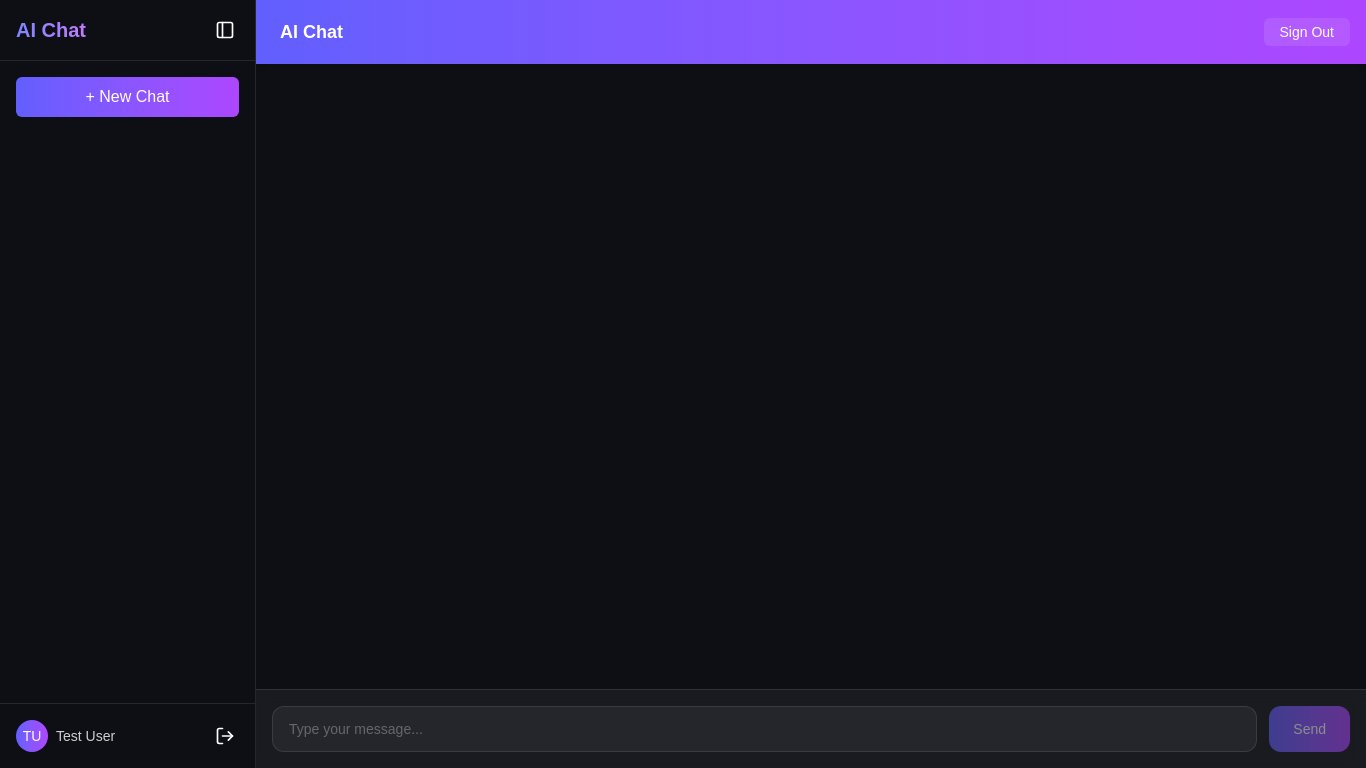
Test case: ChatPage Integration Tests › toggles sidebar visibility on button click
The image size is (1366, 768).
Click the button named "Close sidebar": (225, 30) [211,16,239,44]
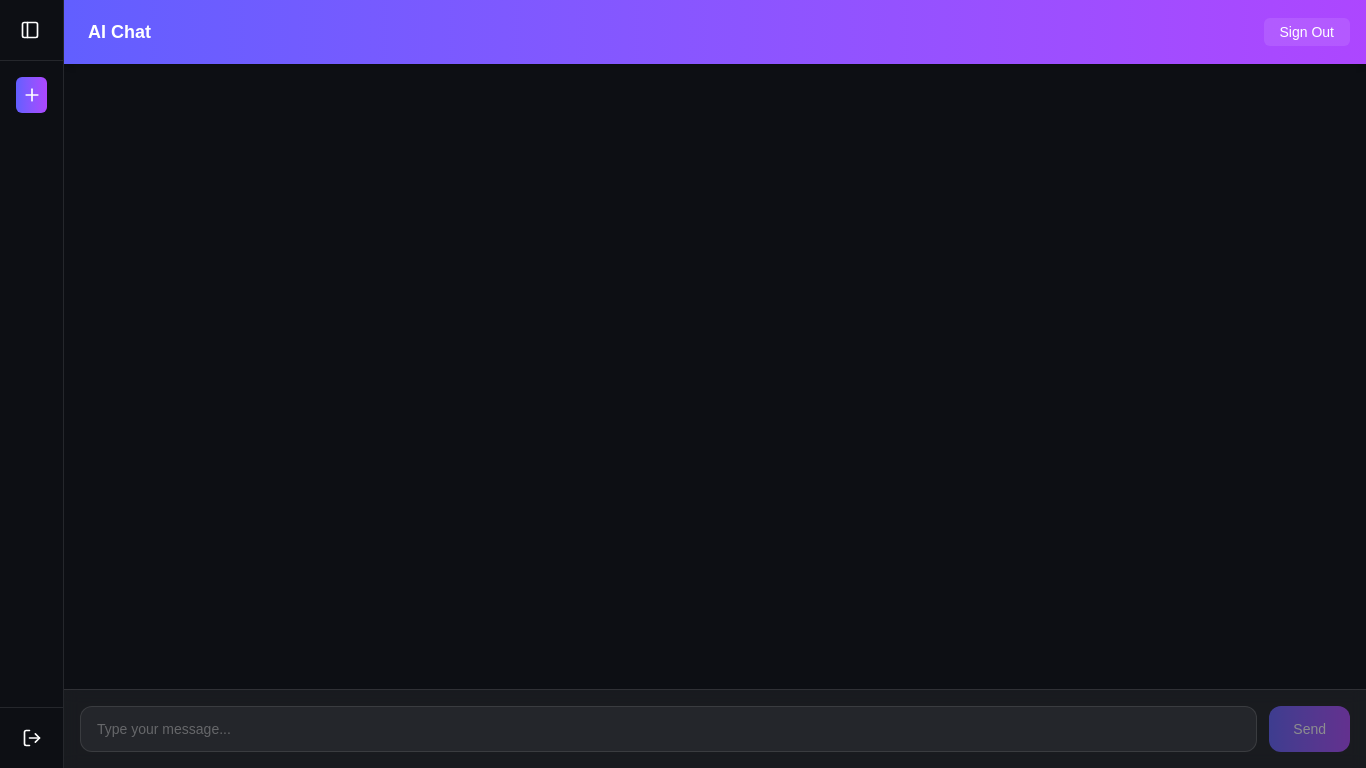
Click the button named "Open sidebar": (30, 30) [16,16,44,44]
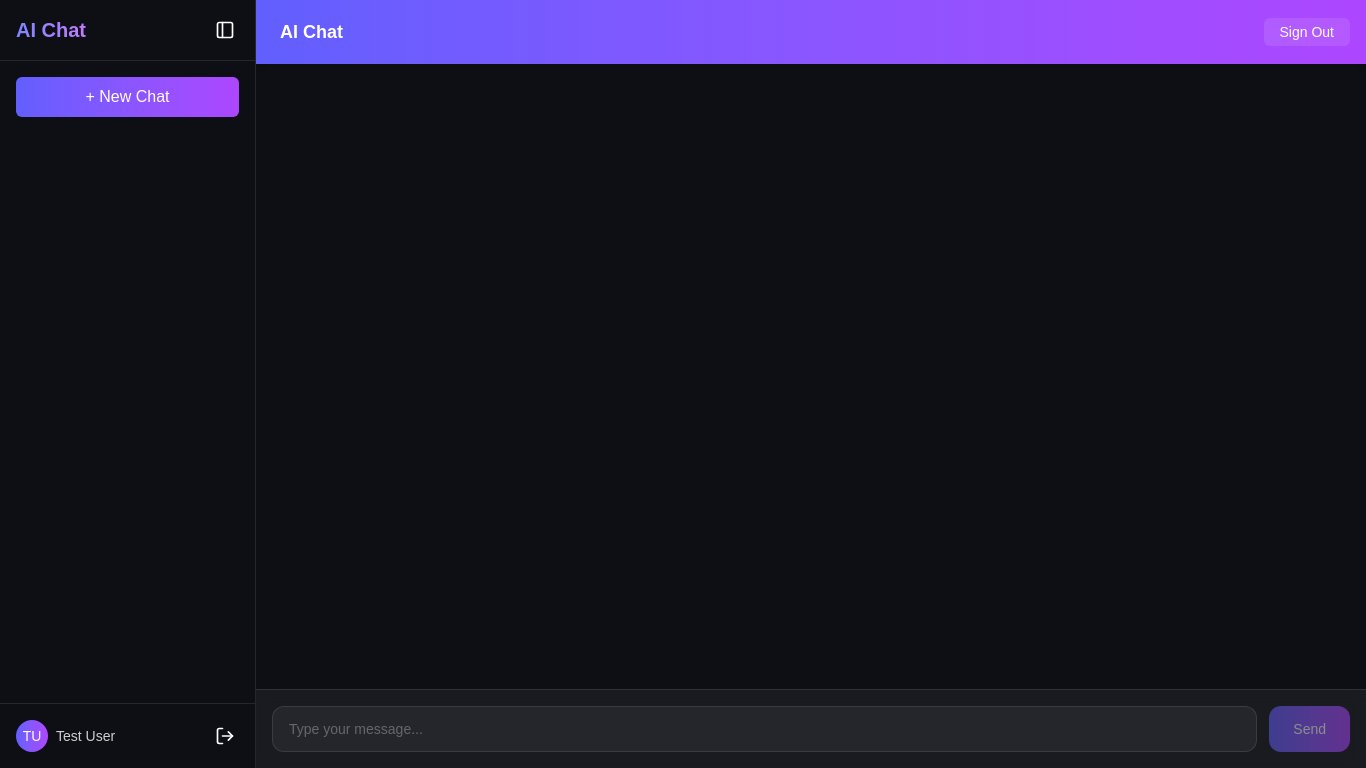
Check: the heading "AI Chat" is shown, box [16,16,86,44]
